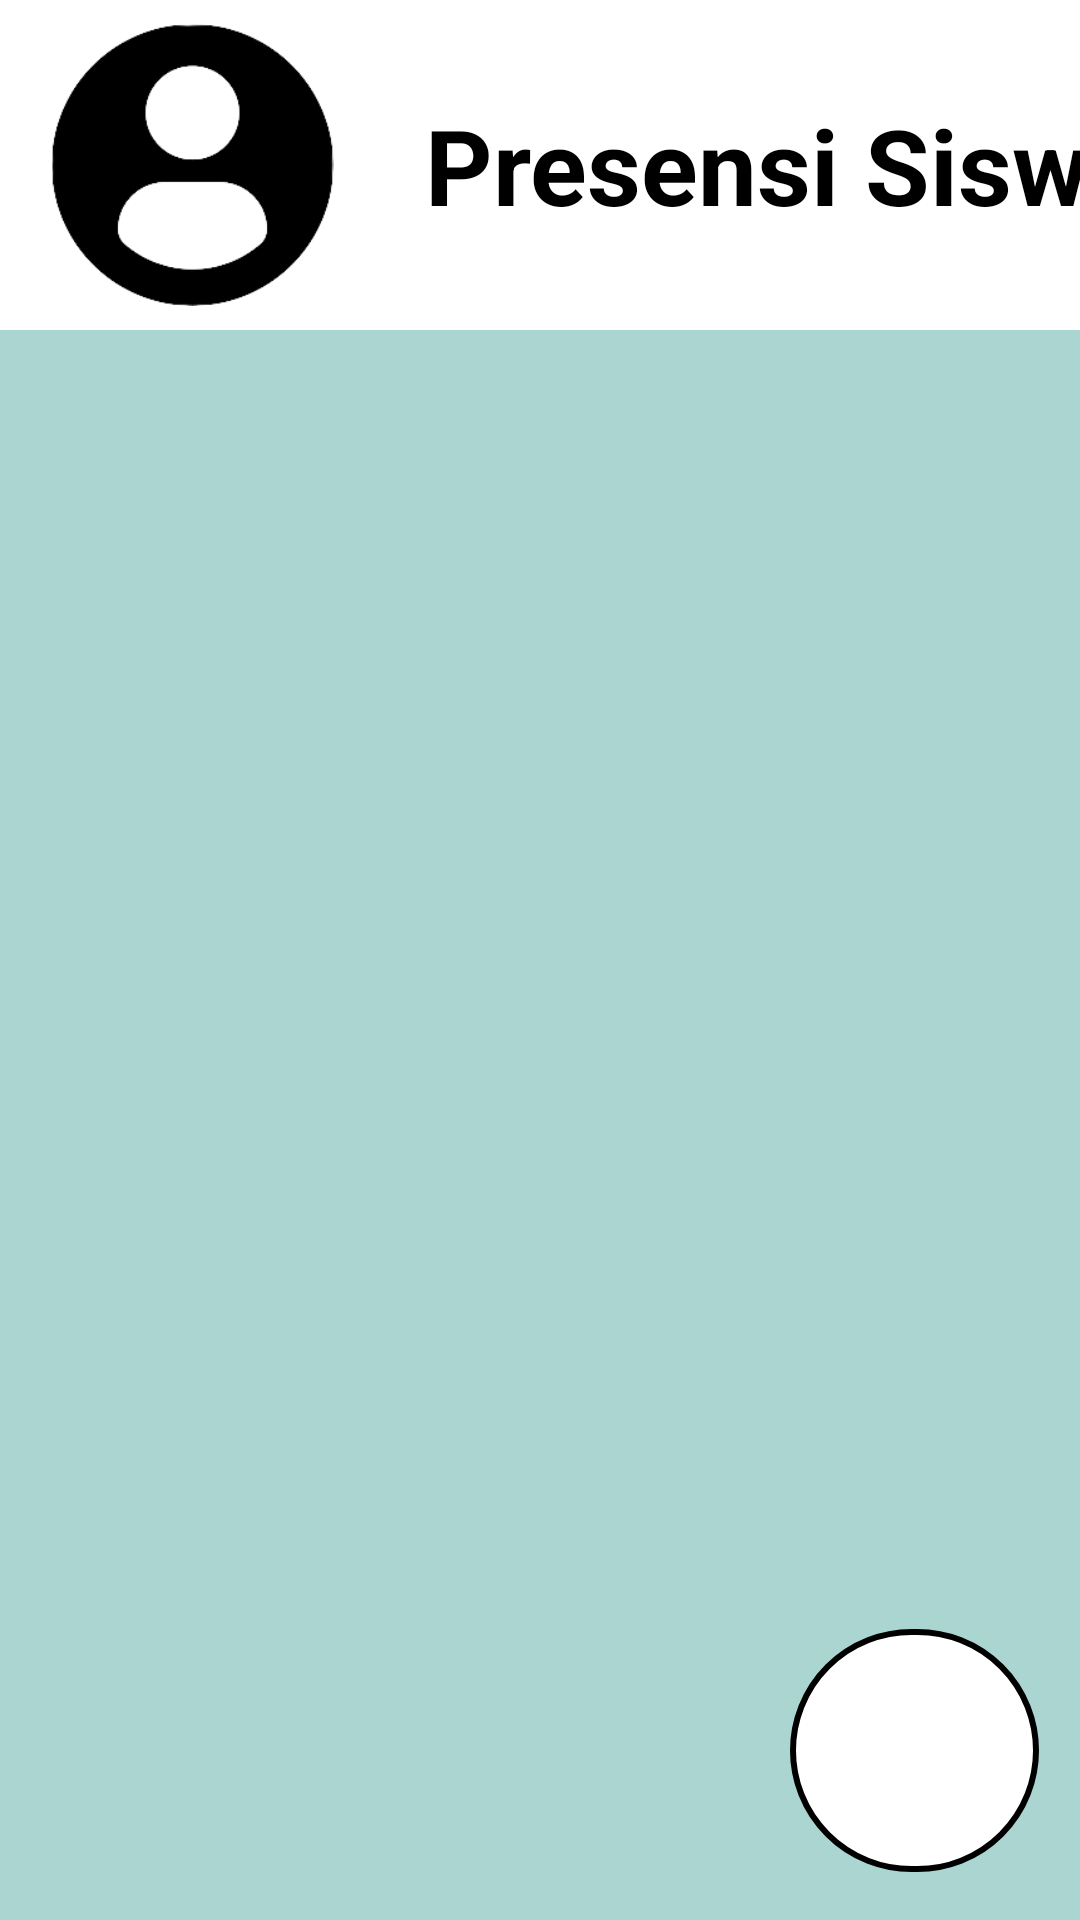

Point at icon controls on the screen. Image size 1080px x 1920px, points as (x=x, y=y).
profil: (x=193, y=165)
